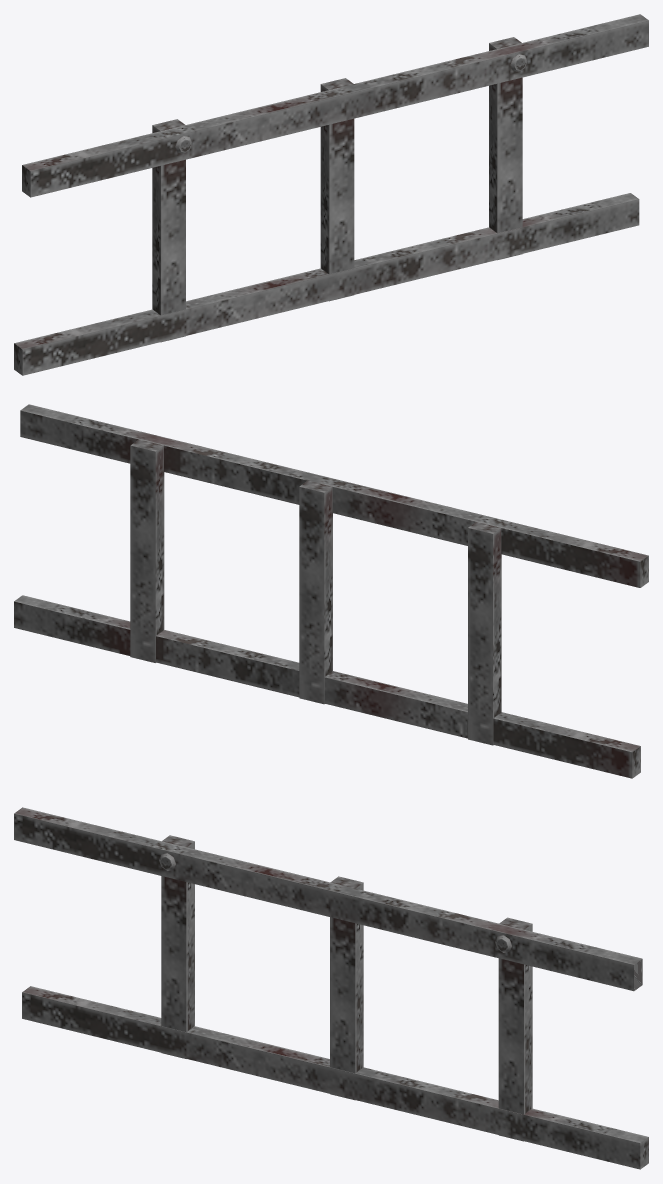
Rendered from Top cell.fbx.
3 renders of one model, top to bottom at view 1: azimuth 30°, elevation 25°; view 2: azimuth 150°, elevation 25°; view 3: azimuth 330°, elevation 25°, orthographic.
Parts seen in each view (by area): view 1: Cylinder.001; view 2: Cylinder.001; view 3: Cylinder.001.
Boxes of the visible parts, x1,y1,x2,y2 form: Cylinder.001: [14, 14, 648, 375]; Cylinder.001: [14, 404, 648, 778]; Cylinder.001: [14, 807, 648, 1169].
Bounding box in the file's own units: 117 × 38.07 × 6.09.
